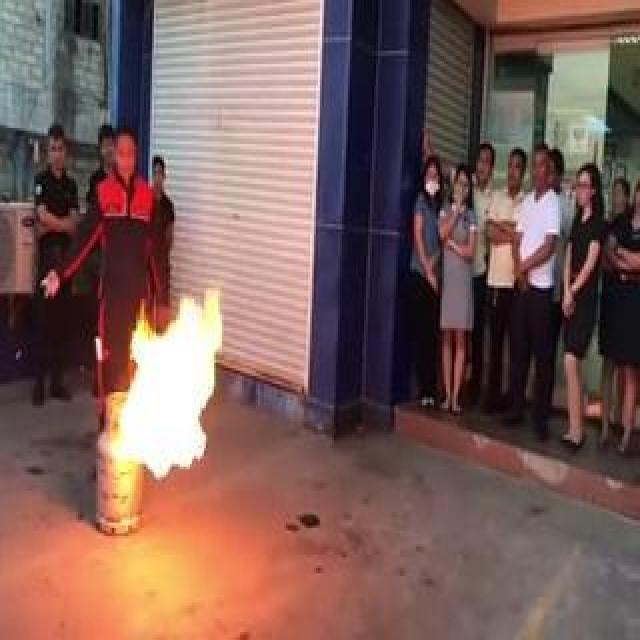Smoke: (53, 288, 159, 482)
